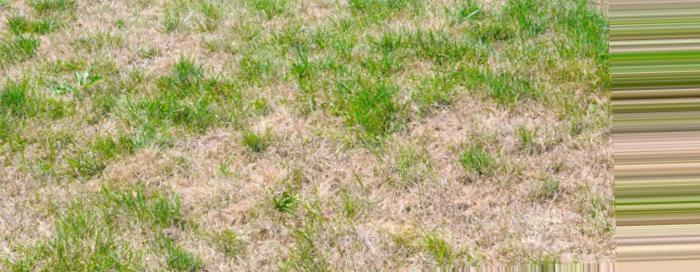patch: (375, 114, 592, 247), (178, 147, 299, 230), (74, 6, 204, 82)
